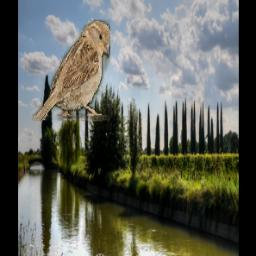Sparrow: (33, 20, 111, 121), (97, 254, 125, 256)
